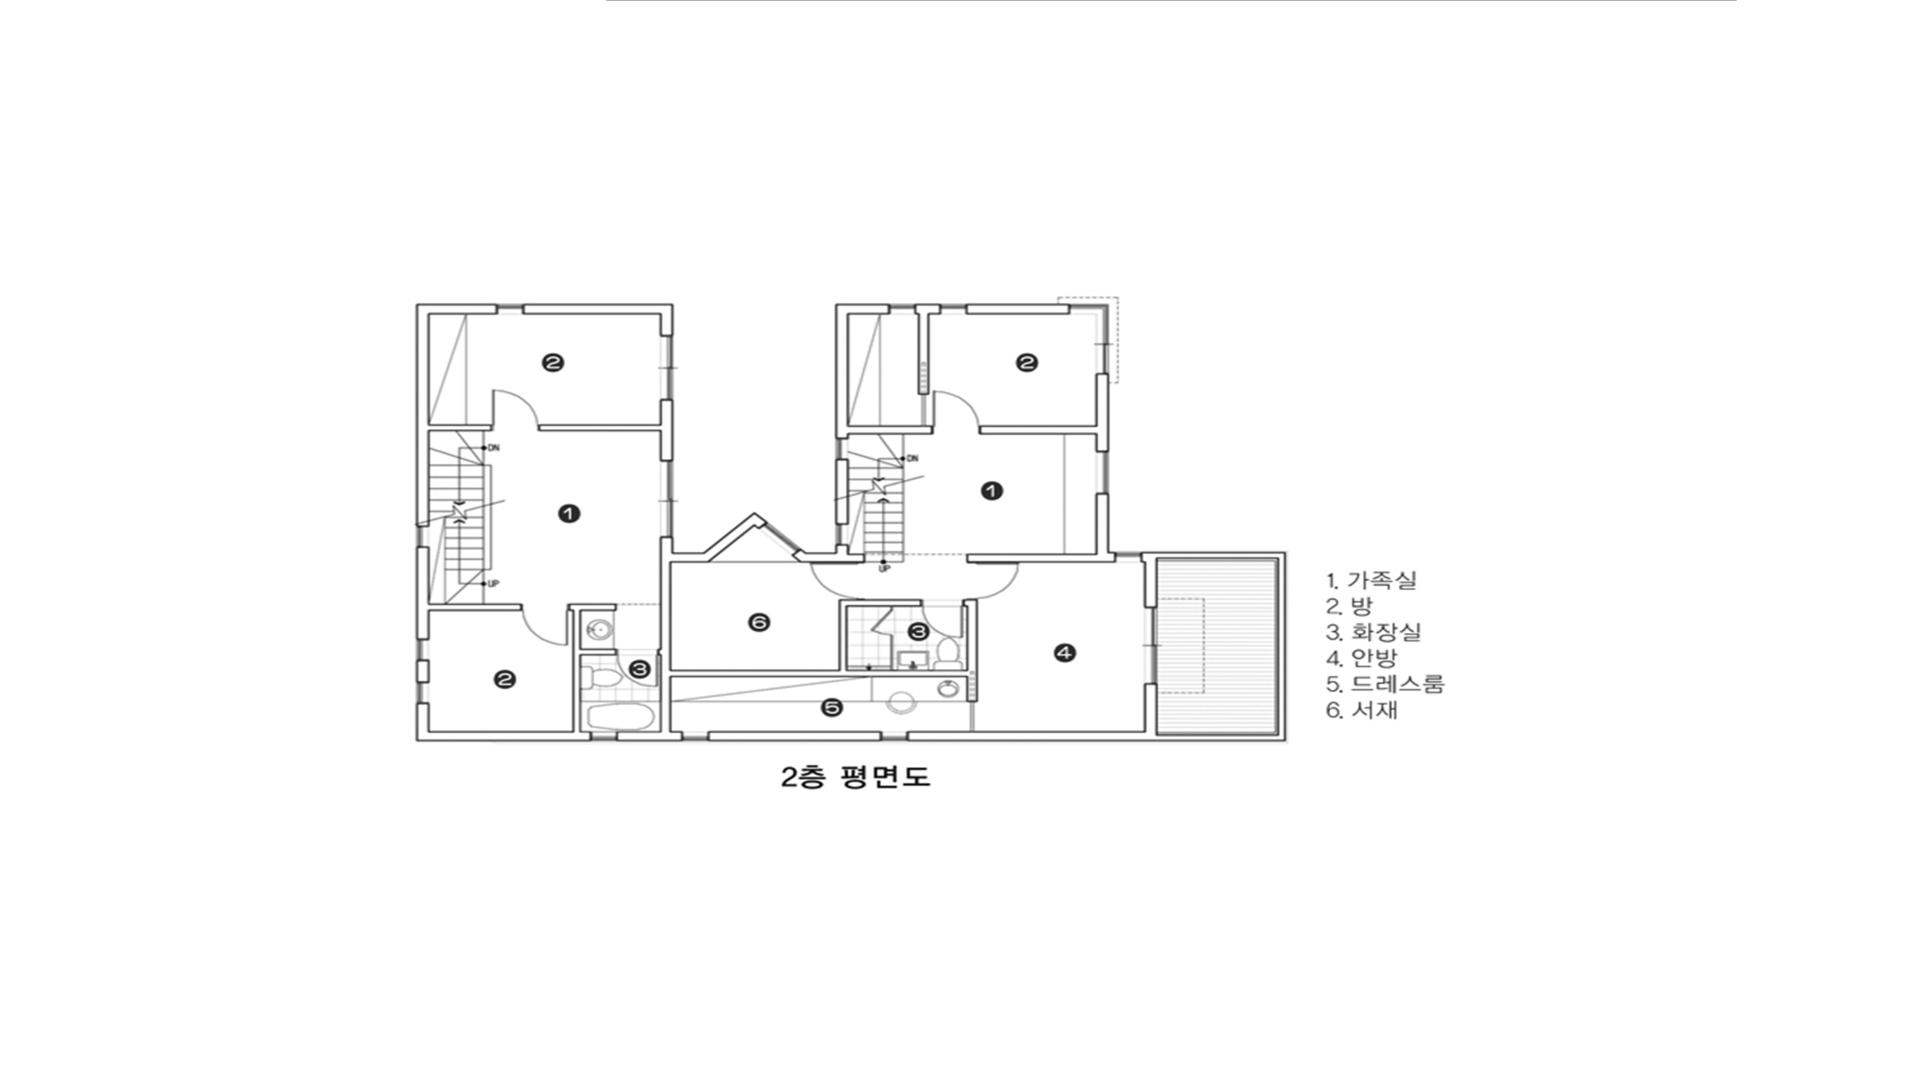door: (932, 390, 978, 435), (808, 563, 865, 599), (521, 604, 568, 646), (492, 389, 539, 431), (965, 563, 1019, 599), (922, 599, 965, 638), (616, 649, 661, 687), (870, 607, 894, 637), (967, 702, 978, 731), (918, 396, 928, 426)
wall: (907, 732, 1276, 741), (415, 303, 430, 526), (671, 670, 967, 678), (704, 518, 754, 562), (836, 303, 849, 439), (522, 303, 673, 315), (661, 563, 671, 731), (708, 732, 882, 741), (430, 732, 592, 741), (1278, 559, 1286, 741), (967, 553, 1096, 563), (965, 599, 978, 702), (415, 547, 430, 640), (1142, 553, 1286, 562), (980, 425, 1096, 434), (1096, 373, 1109, 452), (967, 305, 1071, 314), (918, 314, 930, 394), (1096, 493, 1109, 562), (835, 459, 848, 525), (661, 400, 674, 462), (574, 611, 580, 732), (430, 303, 497, 315), (539, 425, 659, 431), (848, 426, 932, 435), (839, 599, 848, 670), (791, 549, 836, 563), (1145, 683, 1158, 732), (1145, 562, 1158, 608), (617, 732, 683, 741), (430, 604, 521, 611), (848, 599, 922, 607), (417, 703, 430, 741), (661, 553, 708, 563), (849, 303, 890, 315), (430, 425, 492, 431), (746, 512, 767, 529), (568, 604, 616, 611), (417, 659, 430, 683), (659, 315, 673, 336), (915, 303, 940, 314), (580, 649, 616, 655), (836, 545, 848, 563), (661, 537, 673, 553), (848, 554, 865, 563), (890, 637, 893, 670), (1109, 553, 1116, 562)
window: (760, 524, 800, 555), (1143, 608, 1158, 683), (659, 462, 674, 537), (661, 336, 674, 400), (1096, 314, 1109, 373), (1096, 452, 1109, 493), (1071, 303, 1109, 314), (890, 303, 915, 315), (1116, 551, 1141, 563), (415, 526, 430, 546), (940, 303, 967, 314), (835, 525, 848, 545), (417, 640, 430, 659), (417, 683, 430, 703), (498, 303, 522, 314), (836, 439, 848, 459), (683, 732, 708, 741), (882, 732, 907, 741), (592, 732, 616, 741)
